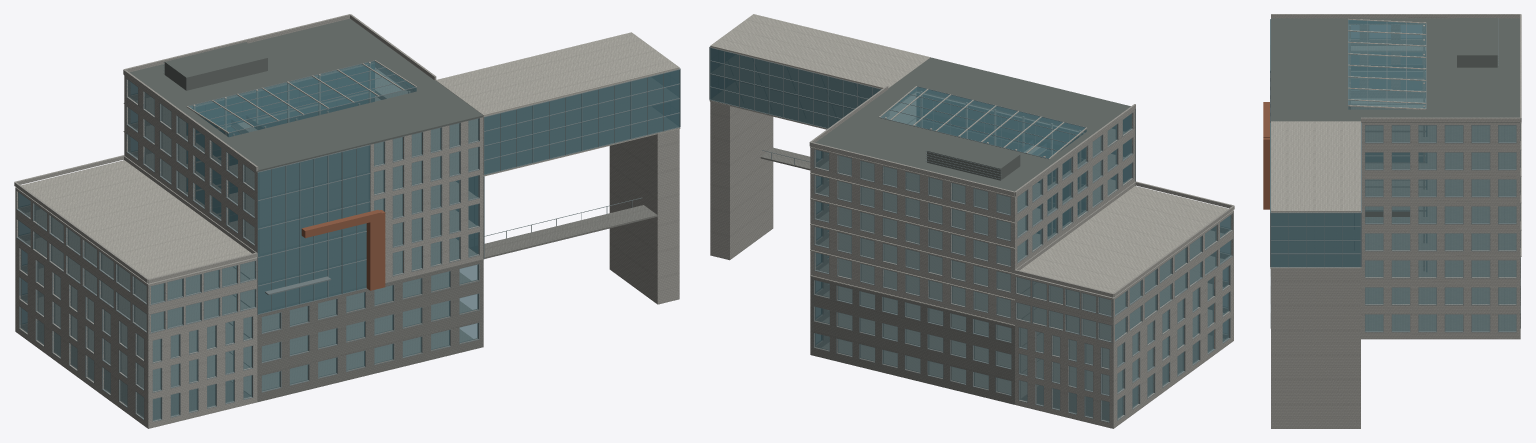
3 renders of one model, left to right at view 1: azimuth 30°, elevation 25°; view 2: azimuth 150°, elevation 25°; view 3: azimuth 270°, elevation 25°, orthographic. The views are drawn at different scales.
Parts seen in each view (by area): view 1: hyundaiBusiness__glass, hyundaiBusiness__stone, hyundaiBusiness__cream, hyundaiBusiness__roof, hyundaiBusiness__frame, hyundaiBusiness__rough, hyundaiBusiness__salmon; view 2: hyundaiBusiness__stone, hyundaiBusiness__glass, hyundaiBusiness__cream, hyundaiBusiness__frame, hyundaiBusiness__roof, hyundaiBusiness__rough; view 3: hyundaiBusiness__stone, hyundaiBusiness__glass, hyundaiBusiness__cream, hyundaiBusiness__roof, hyundaiBusiness__frame, hyundaiBusiness__salmon.
Boxes of the visible parts, left/top/right/bottom form: hyundaiBusiness__glass: left=18, top=61, right=679, bottom=420; hyundaiBusiness__stone: left=14, top=14, right=679, bottom=428; hyundaiBusiness__cream: left=21, top=32, right=680, bottom=395; hyundaiBusiness__roof: left=129, top=18, right=483, bottom=171; hyundaiBusiness__frame: left=16, top=42, right=680, bottom=421; hyundaiBusiness__rough: left=25, top=205, right=657, bottom=419; hyundaiBusiness__salmon: left=301, top=210, right=385, bottom=290; hyundaiBusiness__stone: left=710, top=86, right=1234, bottom=428; hyundaiBusiness__glass: left=710, top=48, right=1231, bottom=421; hyundaiBusiness__cream: left=709, top=14, right=1228, bottom=398; hyundaiBusiness__frame: left=709, top=46, right=1233, bottom=422; hyundaiBusiness__roof: left=815, top=57, right=1130, bottom=191; hyundaiBusiness__rough: left=760, top=147, right=1224, bottom=420; hyundaiBusiness__stone: left=1271, top=14, right=1521, bottom=428; hyundaiBusiness__glass: left=1270, top=19, right=1516, bottom=331; hyundaiBusiness__cream: left=1270, top=19, right=1521, bottom=330; hyundaiBusiness__roof: left=1271, top=18, right=1519, bottom=122; hyundaiBusiness__frame: left=1270, top=18, right=1520, bottom=332; hyundaiBusiness__salmon: left=1263, top=102, right=1409, bottom=216.
Size of the model in its own units: 85.06 by 37.4 by 38.04.
Materials: 8 (3 with a texture image).
